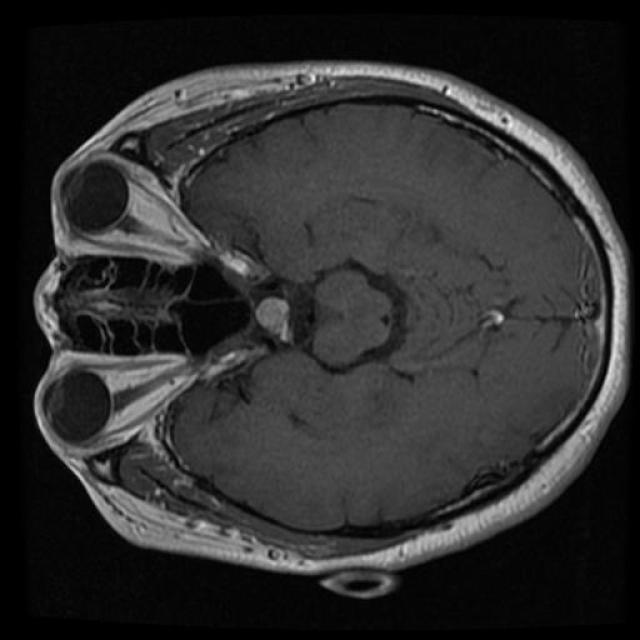Pituitary: (256, 296, 291, 341)
